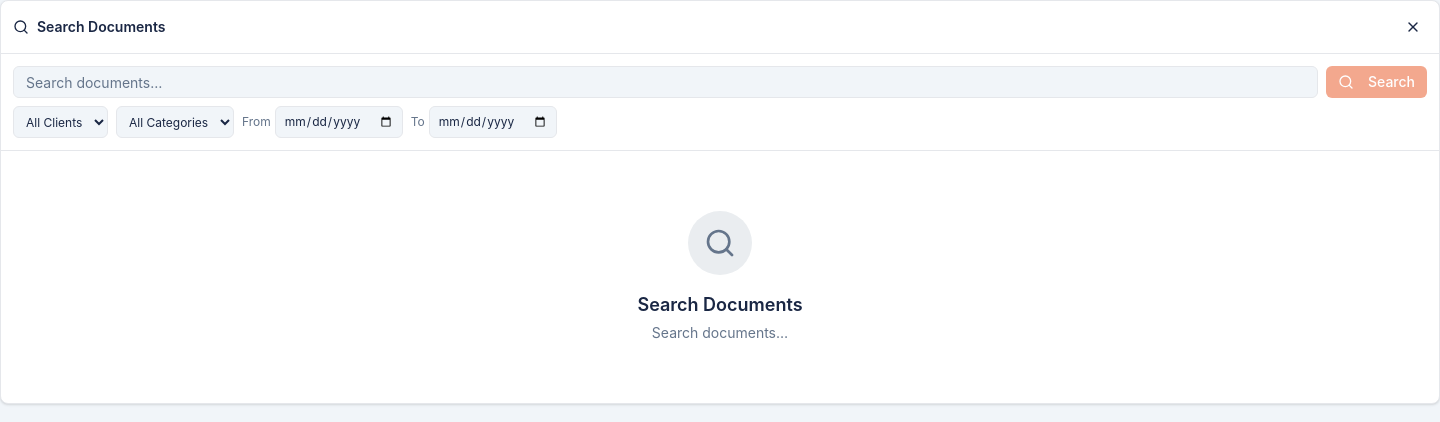
Test case: DocumentSearchPanel › shows no results message when search returns empty
This screenshot has width=1440, height=422.
Type "nonexistent" into the field with placeholder "Search documents…" at (666,82), box x1=13 y1=66 x2=1318 y2=98
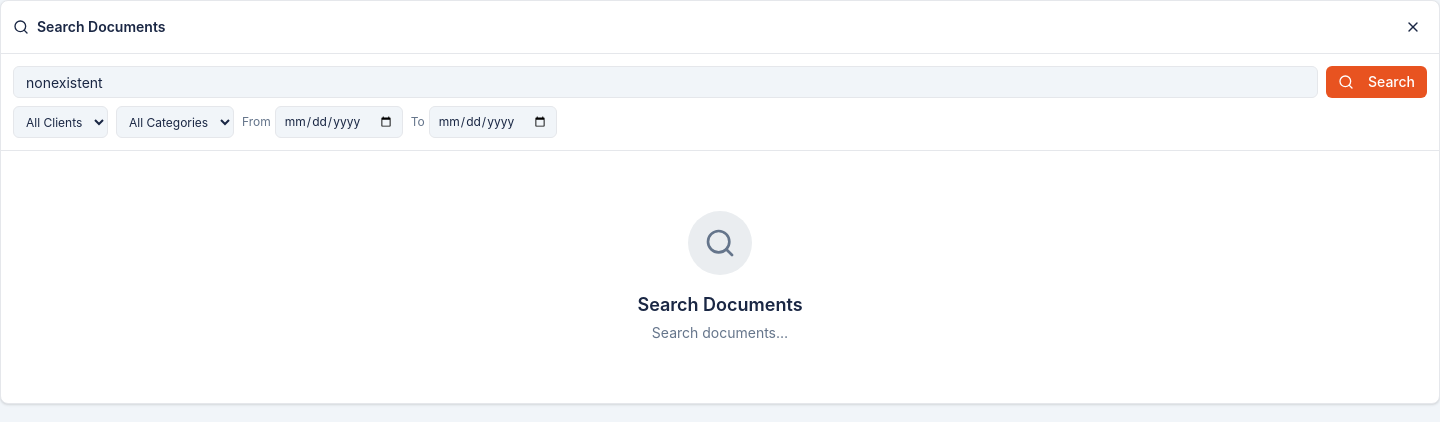
Click the button "Search" at (1376,82), box x1=1326 y1=66 x2=1427 y2=98
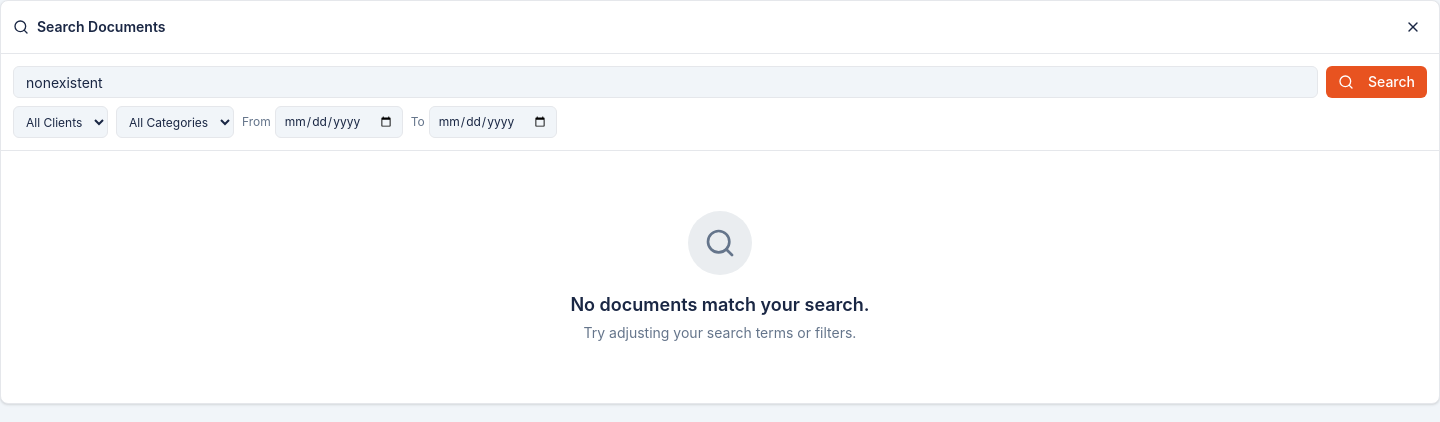
Expected: the heading "No documents match your search." is shown, x1=570 y1=291 x2=870 y2=319
